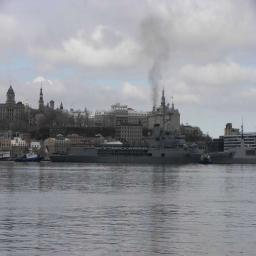Portanaves: (47, 122, 241, 170)
